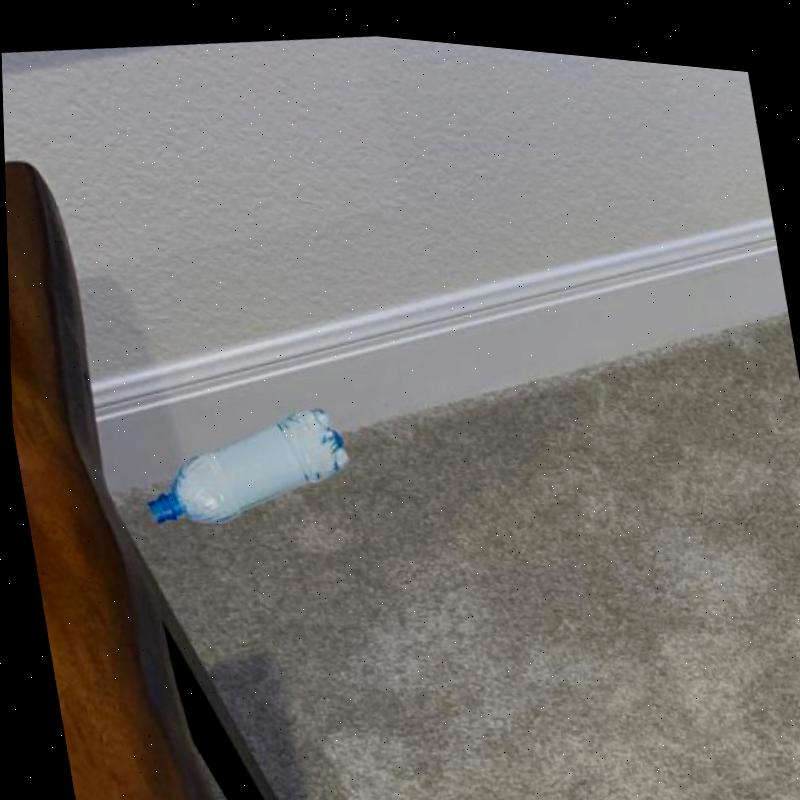botella: (126, 385, 354, 548)
